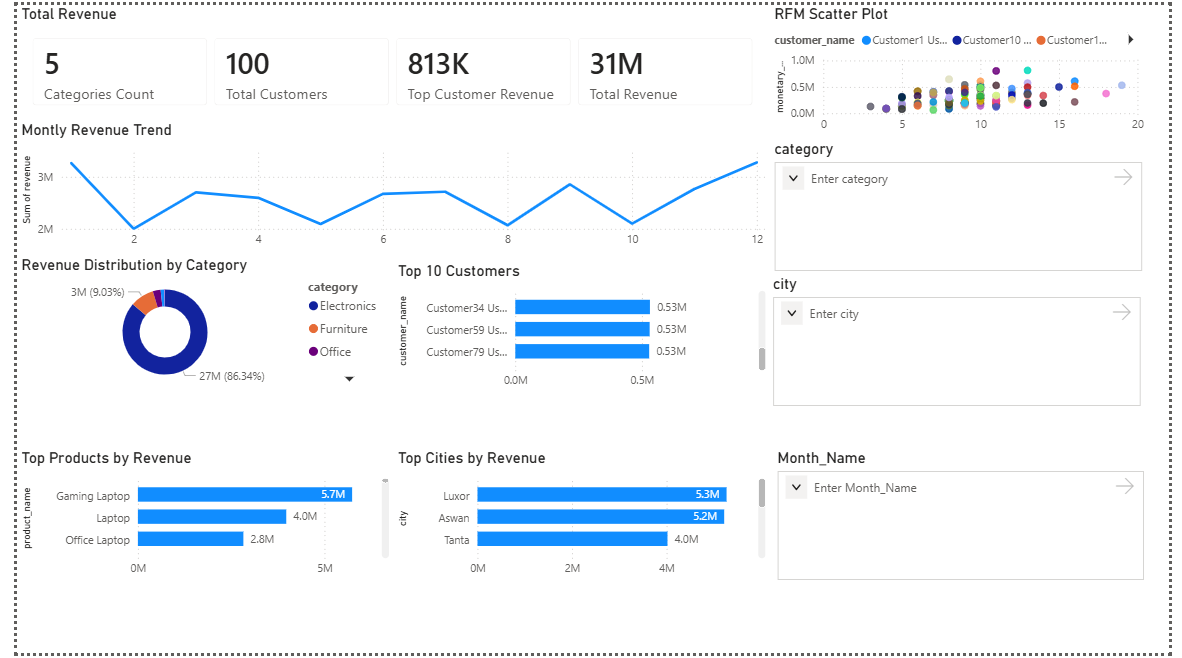

The dashboard page shown, as its layout file describes it:
{"tool":"powerbi","page":{"name":"Executive Dashboard","canvas":[1280,720],"ordinal":0},"visuals":[{"type":"cardVisual","title":"Total Revenue","fields":{"Data":["Revenue_By_Category.Categories Count","RFM ANALYSIS.Total Customers","TOP 10 REVENUE QUERY ANALYSIS.Top Customer Revenue","Revenue_By_Category.Total Revenue"]},"box":[0,0,837.1,128.6],"z":0},{"type":"lineChart","title":"Montly Revenue Trend","fields":{"Category":["MONTHLY REVENUE TREND ANALYSIS.month_"],"Y":["Sum(MONTHLY REVENUE TREND ANALYSIS.revenue)"]},"box":[0,128.3,836.7,150],"z":1},{"type":"donutChart","title":"Revenue Distribution by Category","fields":{"Category":["Revenue_By_Category.category"],"Y":["Sum(Revenue_By_Category.revenue)"]},"box":[0,278.3,418.3,150],"z":2},{"type":"clusteredBarChart","title":"Top 10 Customers","fields":{"Category":["TOP 10 REVENUE QUERY ANALYSIS.customer_name"],"Y":["Sum(TOP 10 REVENUE QUERY ANALYSIS.revenue)"]},"box":[418.3,285,418.3,150],"z":3},{"type":"clusteredBarChart","title":"Top Products by Revenue","fields":{"Category":["Quantity_Sold_Per_Product.product_name"],"Y":["Sum(Quantity_Sold_Per_Product.revenue)"]},"box":[0,492.5,418,150],"z":4},{"type":"clusteredBarChart","title":"Top Cities by Revenue","fields":{"Category":["Revenue_By_City.city"],"Y":["Sum(Revenue_By_City.revenue)"]},"box":[418,493,418,150],"z":5},{"type":"scatterChart","title":"RFM Scatter Plot","fields":{"X":["RFM ANALYSIS.frequency_count"],"Y":["RFM ANALYSIS.monetary_value"],"Size":["Sum(RFM ANALYSIS.recency_days)"],"Series":["RFM ANALYSIS.customer_name"]},"box":[836.7,0,420,150],"z":6},{"type":"textSlicer","fields":{"Values":["Revenue_By_Category.category"]},"box":[836.7,150,418.3,150],"z":7},{"type":"textSlicer","fields":{"Values":["Revenue_By_City.city"]},"box":[835,300,418.3,150],"z":8},{"type":"textSlicer","fields":{"Values":["MONTHLY REVENUE TREND ANALYSIS.Month_Name"]},"box":[840,493.3,416.7,150],"z":9}]}

Visuals, with their boxes in screenshot pixels (x1, y1, x2, y2), scaled from the page's 1280x720 canvas onto the 1182x658 screenshot:
"Total Revenue" cardVisual: locate(0, 0, 773, 118)
"Montly Revenue Trend" lineChart: locate(0, 117, 773, 254)
"Revenue Distribution by Category" donutChart: locate(0, 254, 386, 391)
"Top 10 Customers" clusteredBarChart: locate(386, 260, 773, 398)
"Top Products by Revenue" clusteredBarChart: locate(0, 450, 386, 587)
"Top Cities by Revenue" clusteredBarChart: locate(386, 451, 772, 588)
"RFM Scatter Plot" scatterChart: locate(773, 0, 1160, 137)
textSlicer - Revenue_By_Category.category: locate(773, 137, 1159, 274)
textSlicer - Revenue_By_City.city: locate(771, 274, 1157, 411)
textSlicer - MONTHLY REVENUE TREND ANALYSIS.Month_Name: locate(776, 451, 1160, 588)
